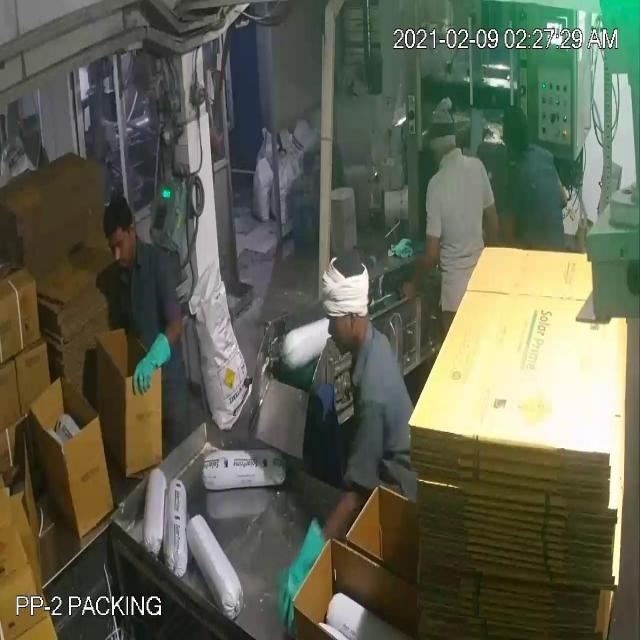Gloves: (43, 71, 419, 570)
